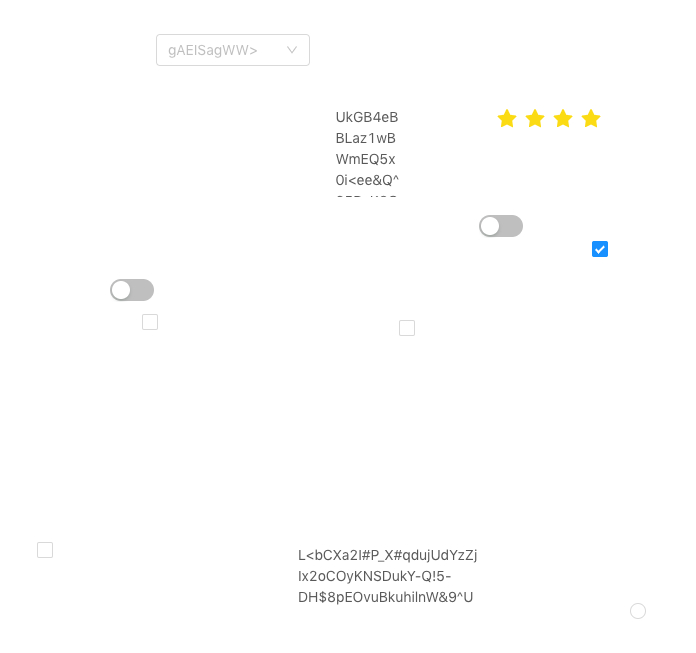Checkbox: (399, 317, 415, 338), (142, 311, 158, 332), (37, 539, 53, 560), (592, 238, 608, 259)
Radio: (630, 600, 646, 620)
Rate: (497, 102, 617, 134)
Select: (156, 34, 310, 66)
Switch: (479, 214, 523, 238), (110, 278, 154, 302)
Text: (298, 544, 480, 610), (336, 106, 403, 197)
